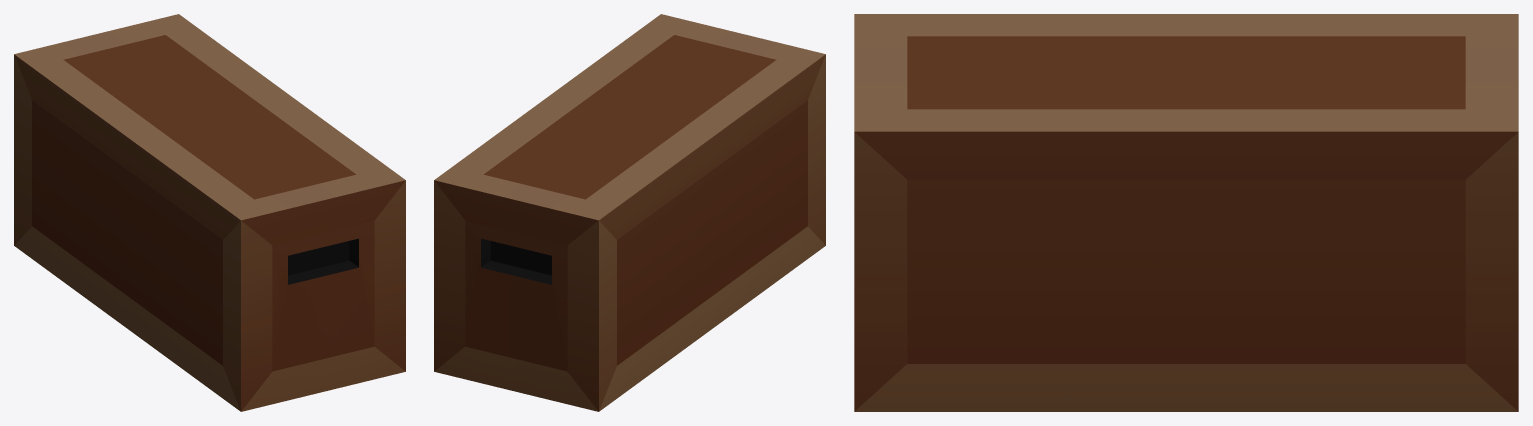
File: SM_MarketBoxes_01.fbx
The picture shows the model from 3 angles, left to right: view 1: azimuth 30°, elevation 25°; view 2: azimuth 150°, elevation 25°; view 3: azimuth 270°, elevation 25°; orthographic projection. The views are drawn at different scales.
Parts seen in each view (by area): view 1: SM_MarketBoxes_01; view 2: SM_MarketBoxes_01; view 3: SM_MarketBoxes_01.
Part boxes in pixels (bbox=[...]): SM_MarketBoxes_01: bbox=[14, 14, 405, 411]; SM_MarketBoxes_01: bbox=[434, 14, 825, 411]; SM_MarketBoxes_01: bbox=[854, 14, 1518, 411].
Size of the model in its own units: 0.3285 by 0.3648 by 0.7838.
